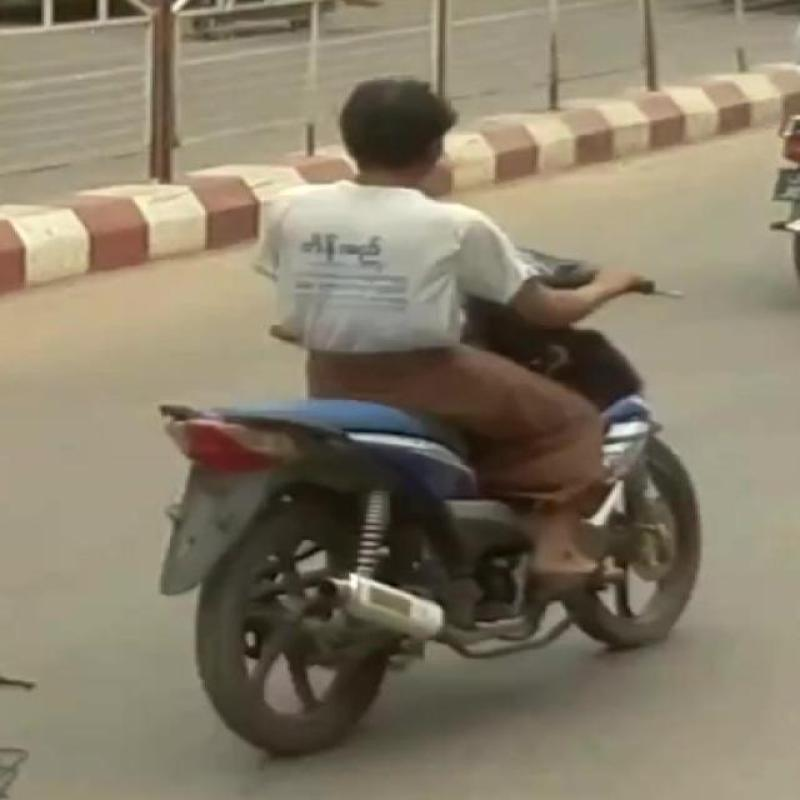nohelmet: (308, 64, 512, 198)
